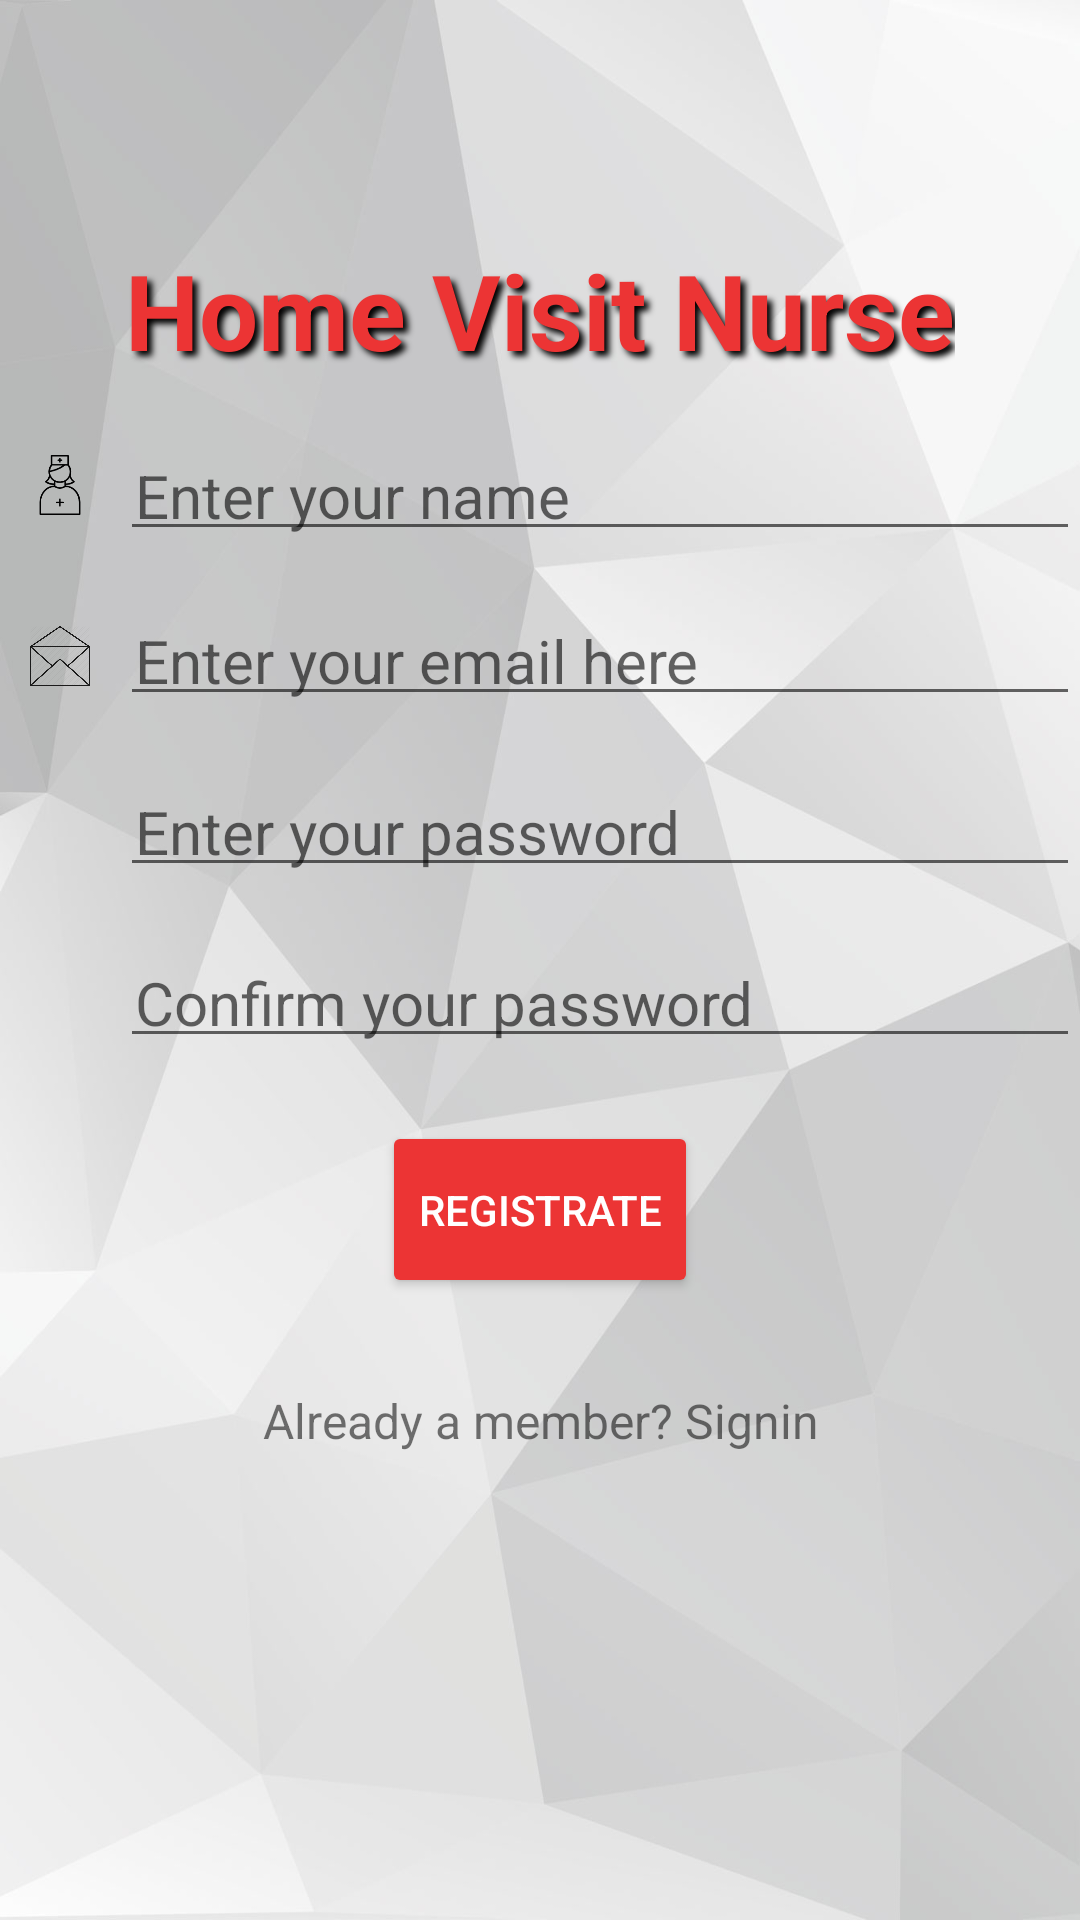

Icons on this 1080w x 1920h Android screen, each with its box as (x1, y1, x2, y2):
signinnurse: (39, 455, 81, 515)
